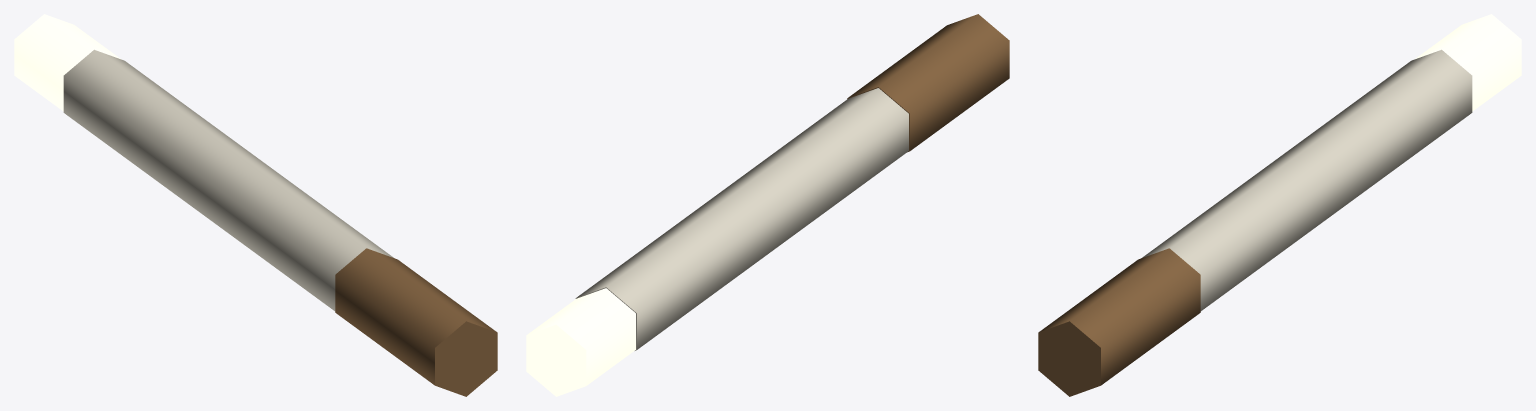
Rendered from cigarette.glb.
3 views of the same model, side by side, from view 1: azimuth 30°, elevation 25°; view 2: azimuth 150°, elevation 25°; view 3: azimuth 330°, elevation 25° (orthographic).
Parts seen in each view (by area): view 1: Cigarette; view 2: Cigarette; view 3: Cigarette.
Part boxes in pixels (bbox=[...]): Cigarette: bbox=[14, 14, 497, 396]; Cigarette: bbox=[526, 14, 1009, 396]; Cigarette: bbox=[1038, 14, 1521, 396].
Bounding box in the file's own units: 0.00797 × 0.0092 × 0.093.
